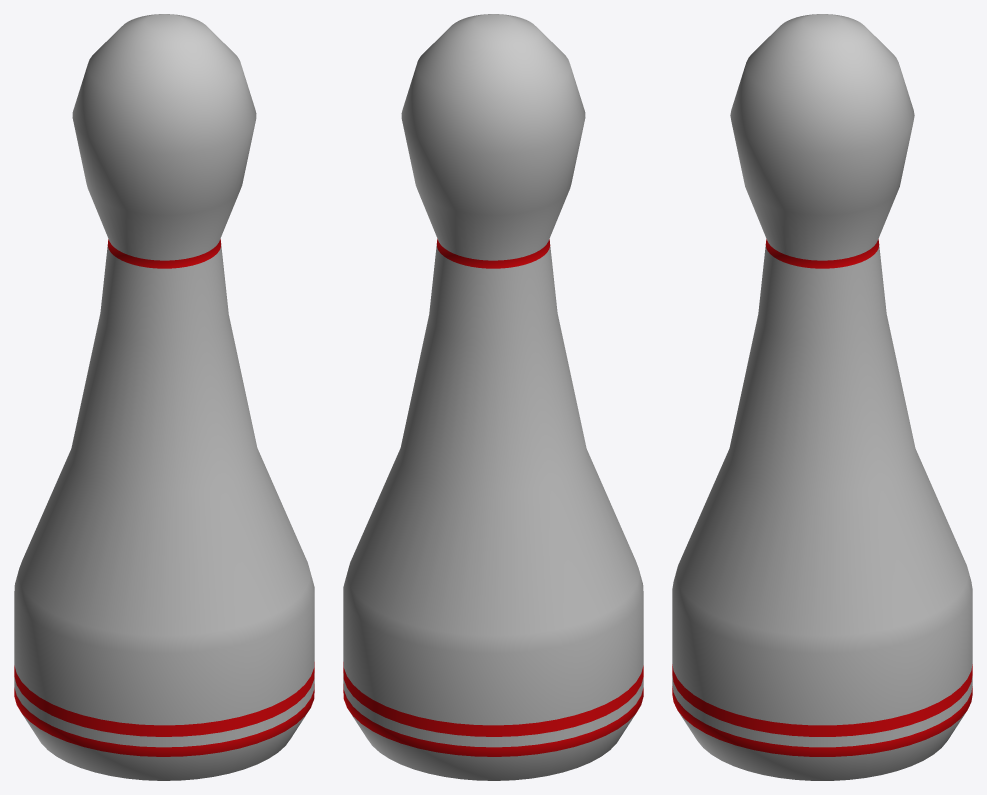
File: kuzelka.fbx
3 views of the same model, side by side, from view 1: azimuth 30°, elevation 25°; view 2: azimuth 150°, elevation 25°; view 3: azimuth 270°, elevation 25° (orthographic).
Visible parts, largest first — view 1: Cylinder; view 2: Cylinder; view 3: Cylinder.
Part boxes in pixels (box(x1,y1,x2,y2)): Cylinder: box(14, 14, 314, 780); Cylinder: box(343, 14, 643, 780); Cylinder: box(672, 14, 972, 780).
Bounding box in the file's own units: 200 × 517 × 200.
